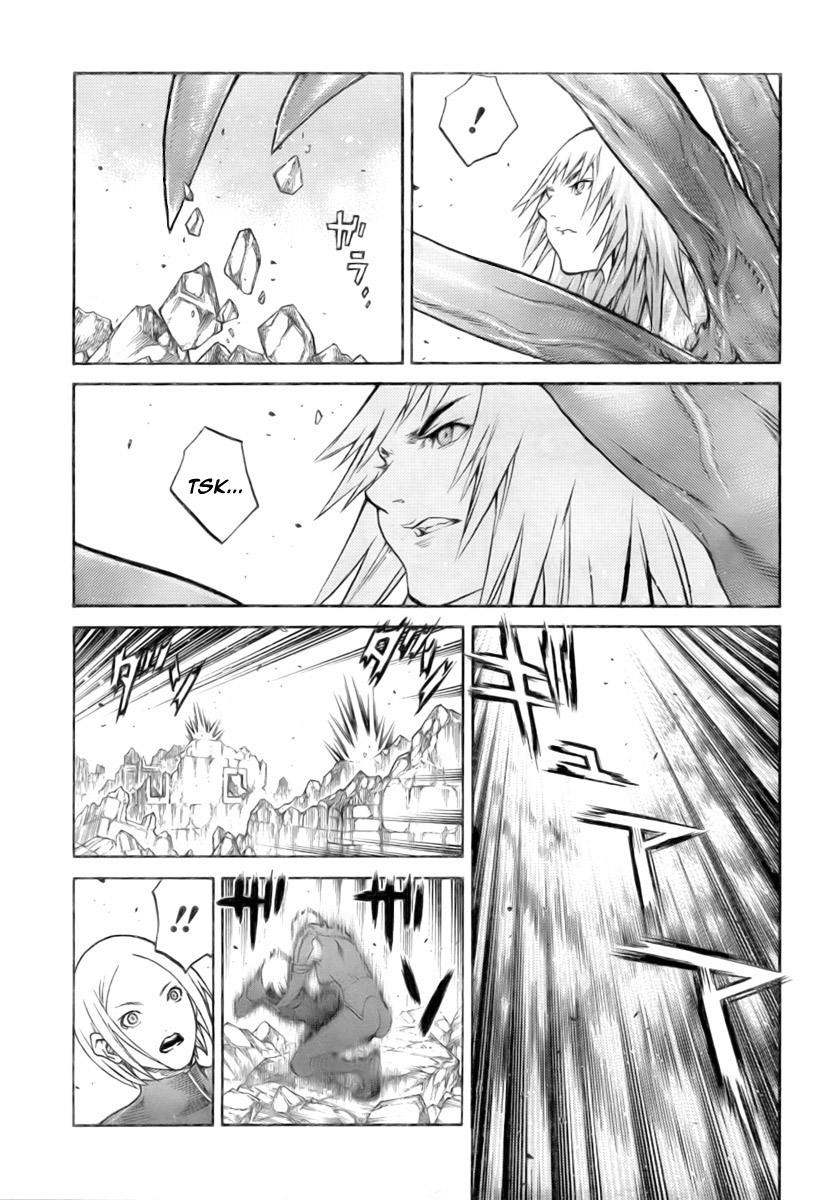Baloon: (172, 427, 263, 543), (441, 74, 521, 163), (154, 878, 215, 971)
Vignetta: (472, 625, 786, 1200), (75, 385, 781, 609), (410, 73, 781, 365), (72, 69, 401, 367), (72, 625, 466, 856), (217, 876, 459, 1125), (74, 878, 214, 1127)
